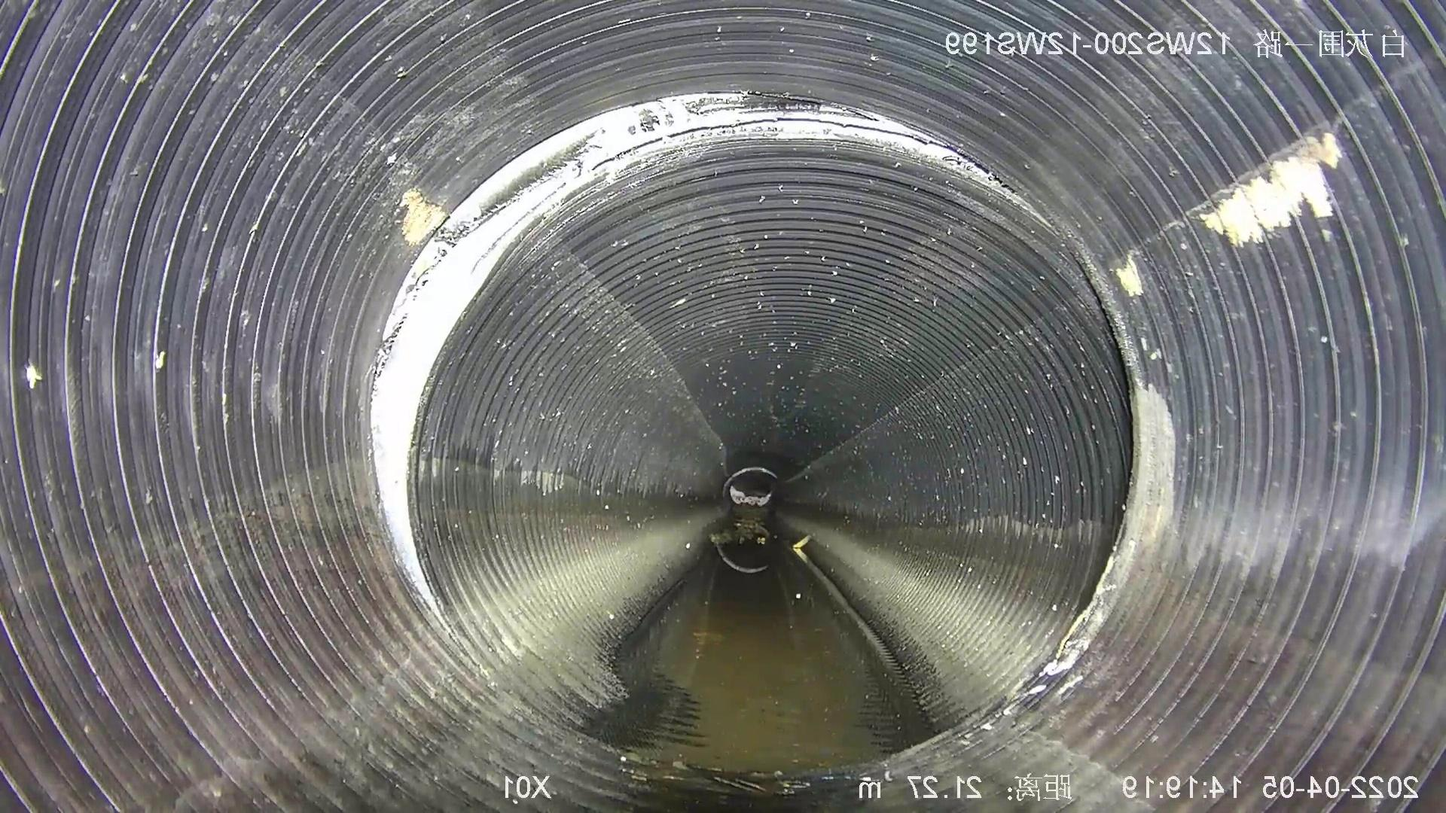CKTJ: (372, 94, 1003, 610)
